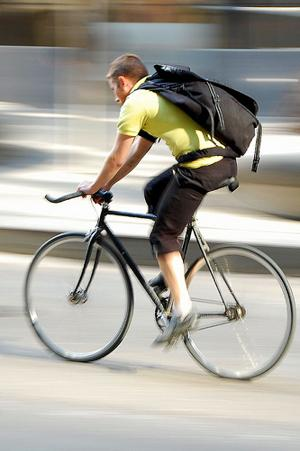person: (77, 52, 240, 350)
